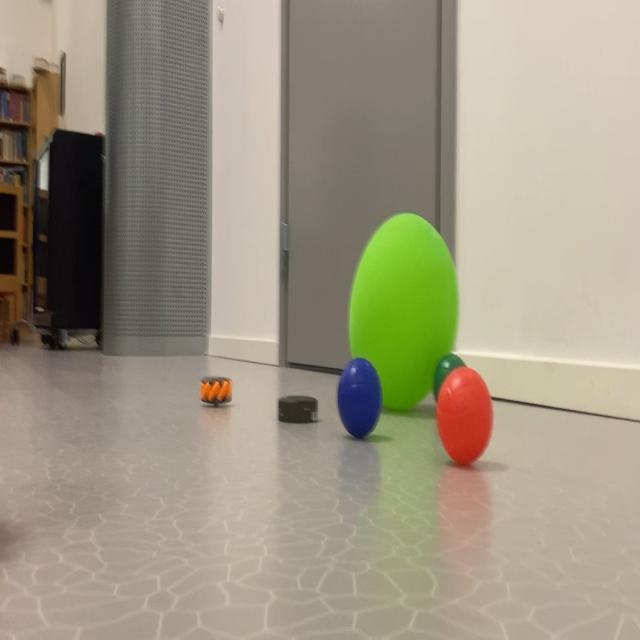blue ball: (339, 362, 379, 449)
green ball: (439, 358, 454, 374)
red ball: (452, 371, 492, 470)
